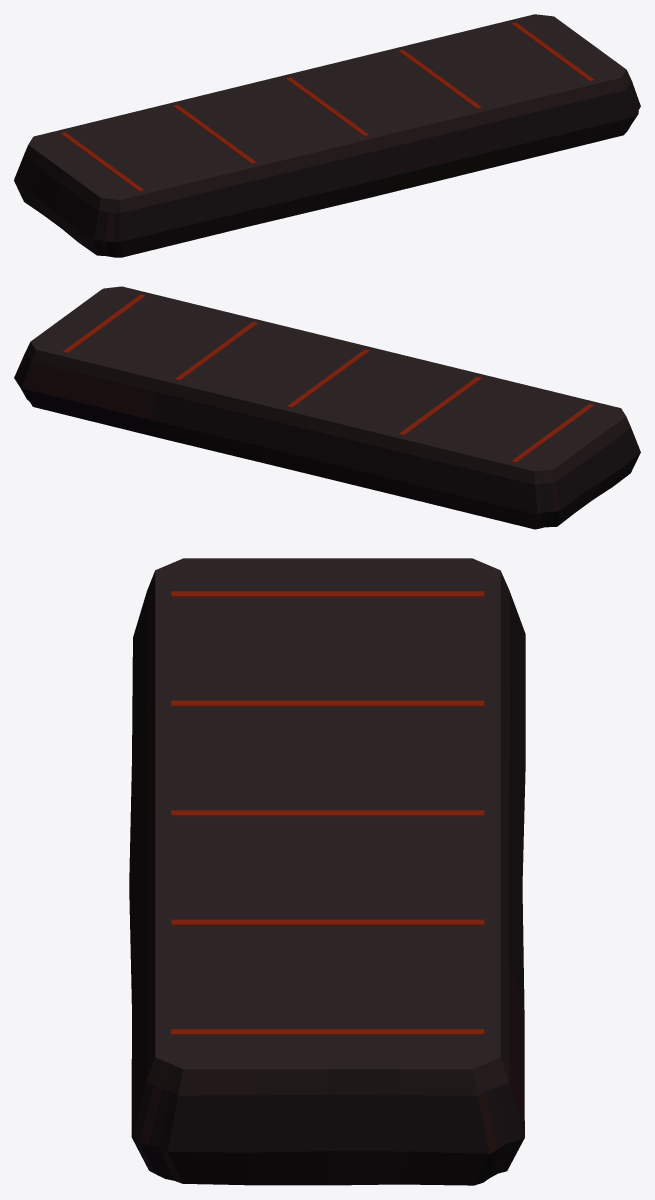
File: basalt_causeway.obj
The picture shows the model from 3 angles, top to bottom: view 1: azimuth 30°, elevation 25°; view 2: azimuth 150°, elevation 25°; view 3: azimuth 270°, elevation 25°; orthographic projection. The views are drawn at different scales.
Parts seen in each view (by area): view 1: basalt_causeway; view 2: basalt_causeway; view 3: basalt_causeway.
Boxes of the visible parts, box(x1,y1,x2,y2) form: basalt_causeway: box(14, 14, 640, 257); basalt_causeway: box(14, 286, 640, 529); basalt_causeway: box(129, 558, 525, 1185).
Size of the model in its own units: 29.33 by 3.23 by 9.19.
